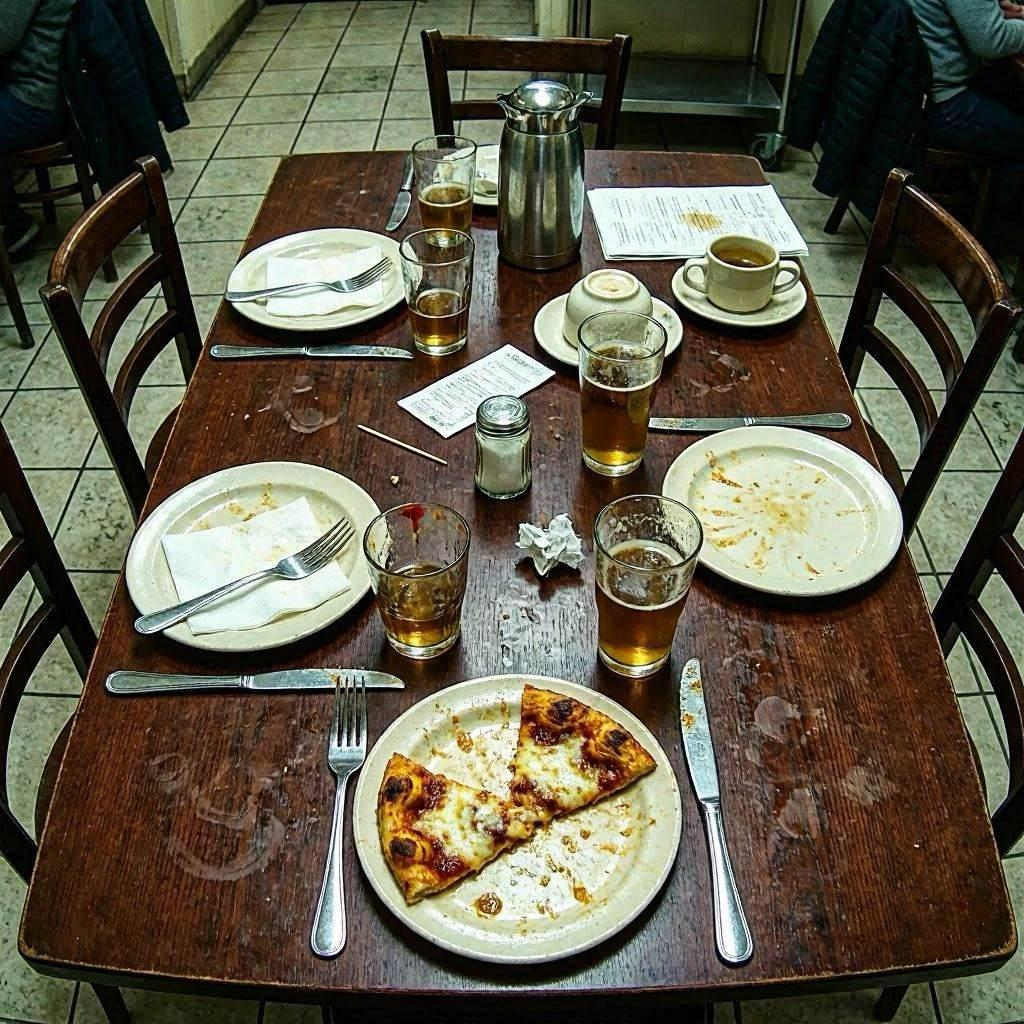dirty: (134, 113, 966, 989)
